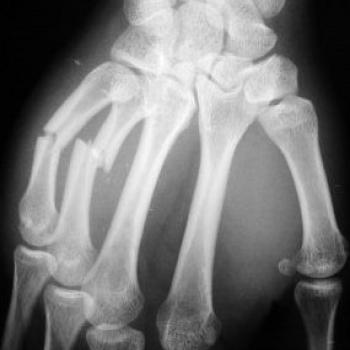Fracture: (71, 127, 113, 176), (30, 116, 64, 156)
